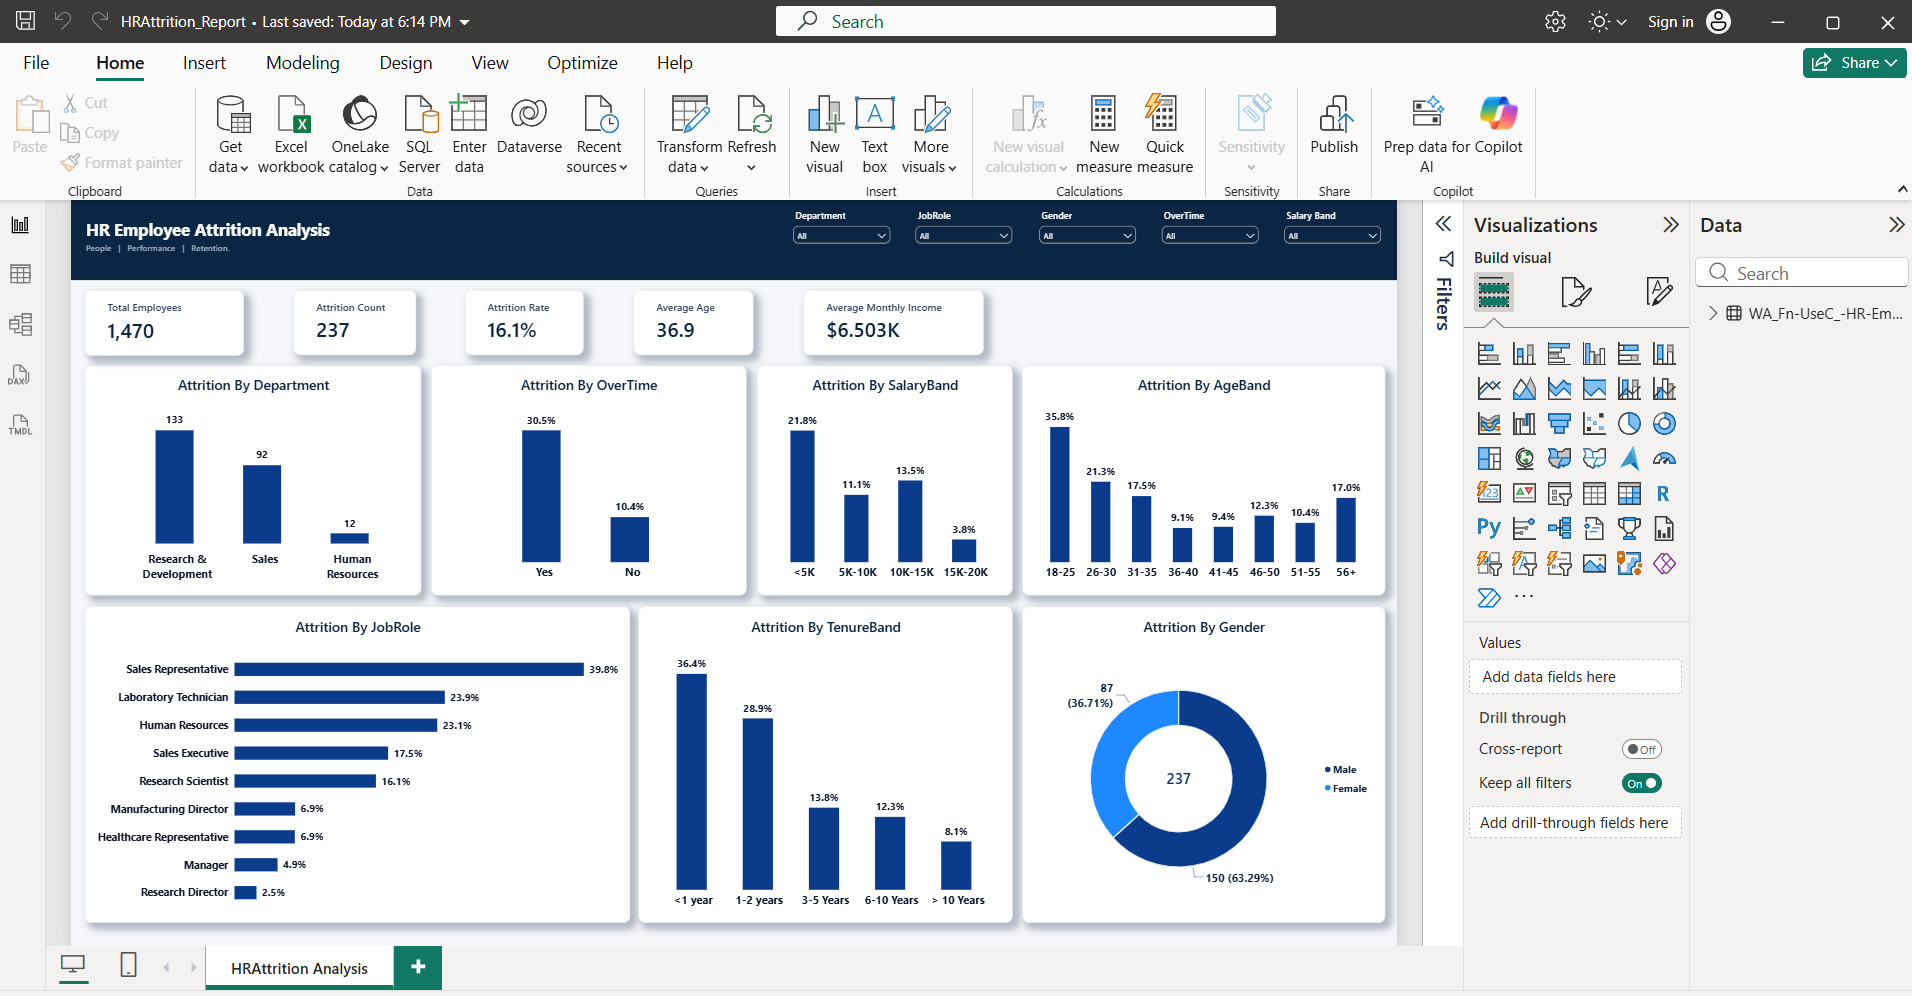

The page's visual inventory and layout, read from the dashboard file:
{"tool":"powerbi","page":{"name":"HRAttrition Analysis","canvas":[1920,1080],"ordinal":0},"visuals":[{"type":"cardVisual","fields":{"Data":["WA_Fn-UseC_-HR-Employee-Attrition.Attrition_Rate"]},"box":[570.5,130.8,172.1,94.2],"z":0},{"type":"clusteredColumnChart","title":"Attrition By Department","fields":{"Category":["WA_Fn-UseC_-HR-Employee-Attrition.Department"],"Y":["WA_Fn-UseC_-HR-Employee-Attrition.Attrition Count"]},"box":[19.9,239.1,487.2,333.3],"z":1000},{"type":"clusteredBarChart","title":"Attrition By JobRole","fields":{"Category":["WA_Fn-UseC_-HR-Employee-Attrition.JobRole"],"Y":["WA_Fn-UseC_-HR-Employee-Attrition.Attrition_Rate"]},"box":[19.9,588.7,789.7,458.3],"z":2000},{"type":"clusteredColumnChart","title":"Attrition By OverTime","fields":{"Category":["WA_Fn-UseC_-HR-Employee-Attrition.OverTime"],"Y":["WA_Fn-UseC_-HR-Employee-Attrition.Attrition_Rate"]},"box":[521.7,239.1,456.5,333.3],"z":3000},{"type":"clusteredColumnChart","title":"Attrition By SalaryBand","fields":{"Category":["WA_Fn-UseC_-HR-Employee-Attrition.Salary Band"],"Y":["WA_Fn-UseC_-HR-Employee-Attrition.Attrition_Rate"]},"box":[992.6,239.1,369.5,333.3],"z":4000},{"type":"clusteredColumnChart","title":"Attrition By TenureBand","fields":{"Category":["WA_Fn-UseC_-HR-Employee-Attrition.Tenure band"],"Y":["WA_Fn-UseC_-HR-Employee-Attrition.Attrition_Rate"]},"box":[822.3,588.7,541.6,458.3],"z":5000},{"type":"cardVisual","fields":{"Data":["WA_Fn-UseC_-HR-Employee-Attrition.Attrition Count"]},"box":[321.5,130.8,177.5,94.2],"z":6000},{"type":"cardVisual","fields":{"Data":["WA_Fn-UseC_-HR-Employee-Attrition.Total Employees"]},"box":[19.9,130.4,230,95],"z":7000},{"type":"cardVisual","fields":{"Data":["WA_Fn-UseC_-HR-Employee-Attrition.Average Age"]},"box":[814.2,130.8,173.9,94.2],"z":8000},{"type":"cardVisual","fields":{"Data":["WA_Fn-UseC_-HR-Employee-Attrition.Average Monthly Income"]},"box":[1059.6,130.8,260.8,94.2],"z":9000},{"type":"donutChart","title":"Attrition By Gender","fields":{"Category":["WA_Fn-UseC_-HR-Employee-Attrition.Gender"],"Y":["WA_Fn-UseC_-HR-Employee-Attrition.Attrition Count"]},"box":[1376.6,588.7,525.3,458.3],"z":10000},{"type":"clusteredColumnChart","title":"Attrition By AgeBand","fields":{"Category":["WA_Fn-UseC_-HR-Employee-Attrition.Age Band"],"Y":["WA_Fn-UseC_-HR-Employee-Attrition.Attrition_Rate"]},"box":[1376.6,239.1,525.3,333.3],"z":11000},{"type":"shape","box":[0,0,1920,116],"z":12000},{"type":"textbox","title":"HR Employee Attrition Analysis","box":[21.7,27.1,367.4,61.5],"z":13000},{"type":"slicer","fields":{"Values":["WA_Fn-UseC_-HR-Employee-Attrition.OverTime"]},"box":[1574,12.7,150,90],"z":14000},{"type":"slicer","fields":{"Values":["WA_Fn-UseC_-HR-Employee-Attrition.Salary Band"]},"box":[1751.8,12.7,150,90],"z":15000},{"type":"slicer","fields":{"Values":["WA_Fn-UseC_-HR-Employee-Attrition.JobRole"]},"box":[1218.5,12.7,150,90],"z":16000},{"type":"slicer","fields":{"Values":["WA_Fn-UseC_-HR-Employee-Attrition.Department"]},"box":[1040.6,12.7,150.2,90],"z":17000},{"type":"slicer","fields":{"Values":["WA_Fn-UseC_-HR-Employee-Attrition.Gender"]},"box":[1396.3,12.7,150,90],"z":18000}]}

Visuals, with their boxes on the page's 1920x1080 design canvas (x1, y1, x2, y2). These are canvas units, not pixel positions in the 1912x996 screenshot, which may show the page scaled, cropped or inside an application window:
cardVisual - WA_Fn-UseC_-HR-Employee-Attrition.Attrition_Rate: crop(570, 131, 743, 225)
"Attrition By Department" clusteredColumnChart: crop(20, 239, 507, 572)
"Attrition By JobRole" clusteredBarChart: crop(20, 589, 810, 1047)
"Attrition By OverTime" clusteredColumnChart: crop(522, 239, 978, 572)
"Attrition By SalaryBand" clusteredColumnChart: crop(993, 239, 1362, 572)
"Attrition By TenureBand" clusteredColumnChart: crop(822, 589, 1364, 1047)
cardVisual - WA_Fn-UseC_-HR-Employee-Attrition.Attrition Count: crop(322, 131, 499, 225)
cardVisual - WA_Fn-UseC_-HR-Employee-Attrition.Total Employees: crop(20, 130, 250, 225)
cardVisual - WA_Fn-UseC_-HR-Employee-Attrition.Average Age: crop(814, 131, 988, 225)
cardVisual - WA_Fn-UseC_-HR-Employee-Attrition.Average Monthly Income: crop(1060, 131, 1320, 225)
"Attrition By Gender" donutChart: crop(1377, 589, 1902, 1047)
"Attrition By AgeBand" clusteredColumnChart: crop(1377, 239, 1902, 572)
shape: crop(0, 0, 1920, 116)
"HR Employee Attrition Analysis" textbox: crop(22, 27, 389, 89)
slicer - WA_Fn-UseC_-HR-Employee-Attrition.OverTime: crop(1574, 13, 1724, 103)
slicer - WA_Fn-UseC_-HR-Employee-Attrition.Salary Band: crop(1752, 13, 1902, 103)
slicer - WA_Fn-UseC_-HR-Employee-Attrition.JobRole: crop(1218, 13, 1368, 103)
slicer - WA_Fn-UseC_-HR-Employee-Attrition.Department: crop(1041, 13, 1191, 103)
slicer - WA_Fn-UseC_-HR-Employee-Attrition.Gender: crop(1396, 13, 1546, 103)
